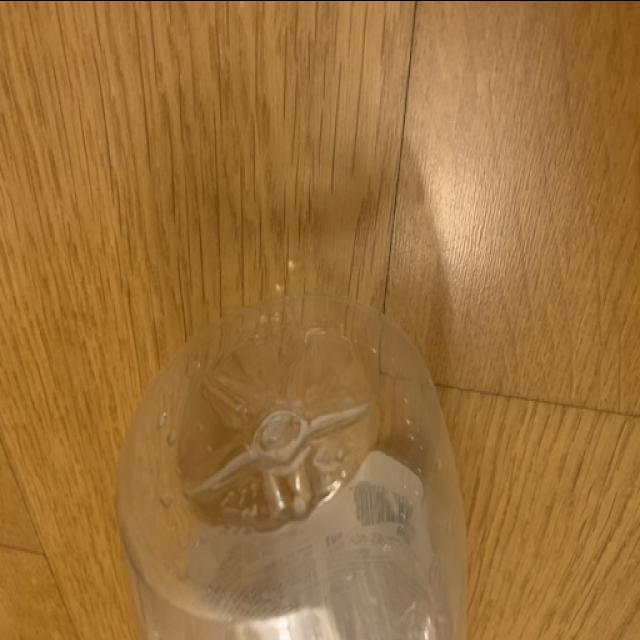PET: (111, 273, 470, 637)
